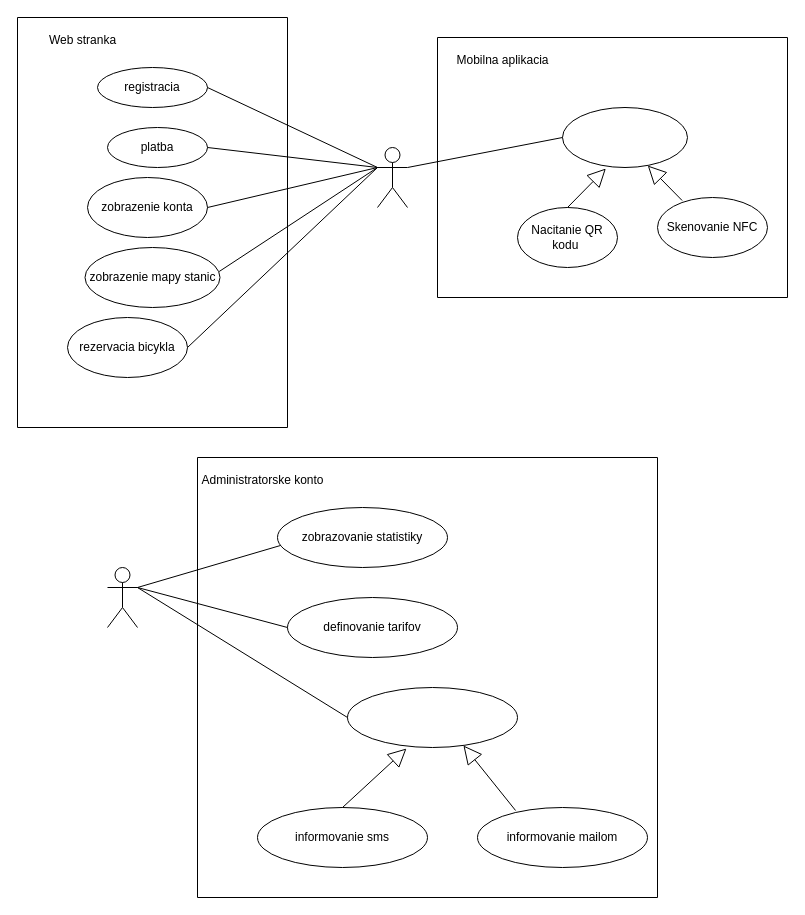
The diagram is 805 pixels wide and 915 high, and some of its shapes have lost their labels. Here are the shapes that lost their labels. From the top down, the box of each, then its label:
(562, 106, 688, 168): Rychle preberanie bicykla
(376, 146, 408, 208): Zakaznik
(106, 566, 138, 628): Majitel
(346, 686, 518, 748): informovanie zakaznikov
